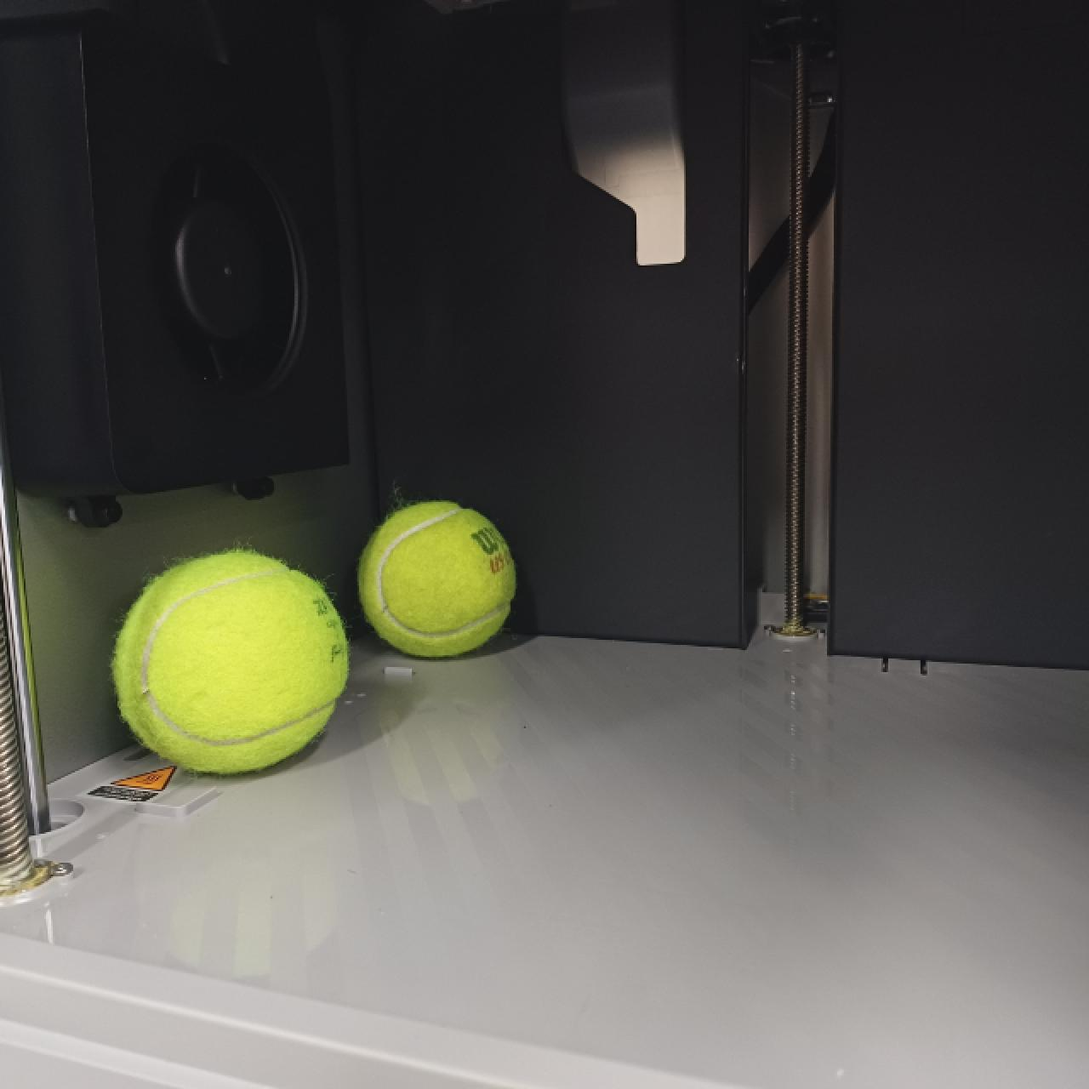tennis-ball: (111, 544, 350, 773), (359, 494, 520, 659)
